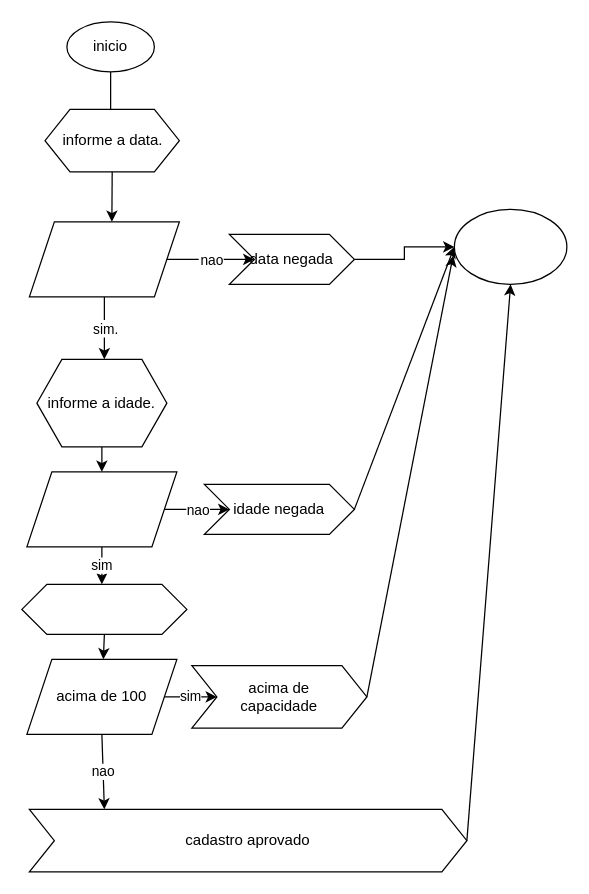
Image size: 589x894. Some labels were removed from this diagram. Here are the shapes that lost their labels. From the top down, the centre of each, then its label:
(103,259): data acima da de hoje?
(510,246): fim
(101,509): acima de 18 anos
(104,608): informe o numero de participantes
